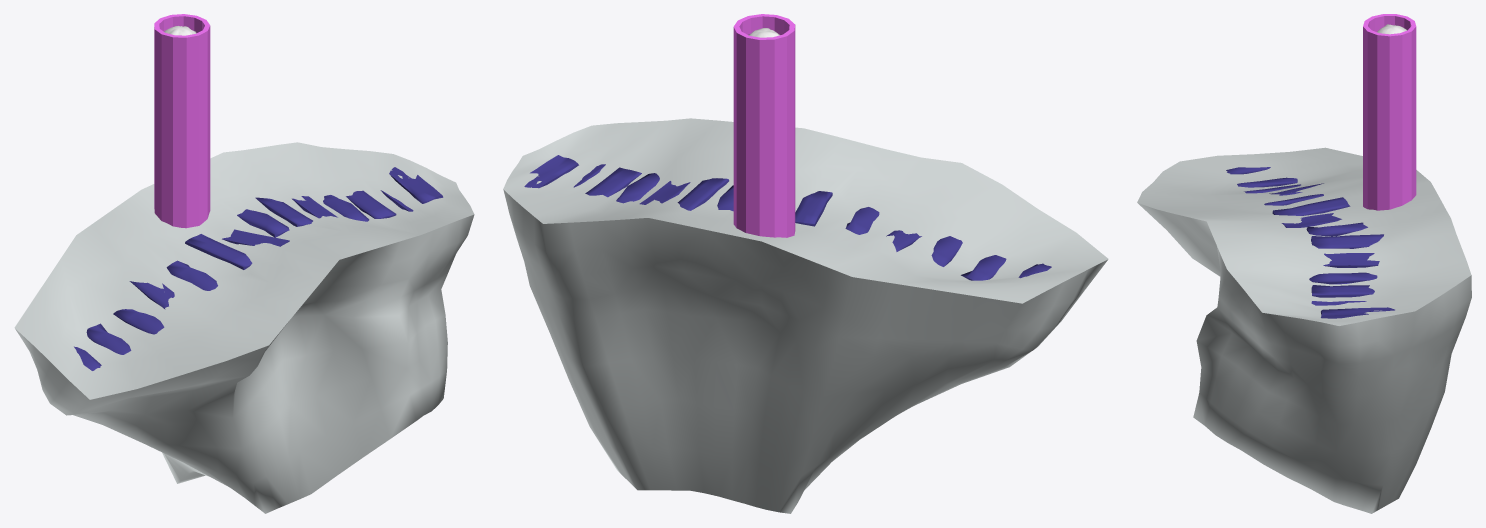
File: ile3.fbx
The picture shows the model from 3 angles, left to right: view 1: azimuth 30°, elevation 25°; view 2: azimuth 150°, elevation 25°; view 3: azimuth 270°, elevation 25°; orthographic projection. The views are drawn at different scales.
Parts seen in each view (by area): view 1: Sphère, Cylindre, planche3_2, Cube_3, planche2_2, planche2_1, planche2_3, planche3, planche2_5, planche3_1, planche4, planche3_3 (+1 smaller); view 2: Sphère, Cylindre, Cube_3, planche3_2, planche3_1, planche3; view 3: Sphère, Cylindre, planche3_1, planche3_2, planche3, planche4_1, planche2, planche2_1, Cube_3, planche4, planche2_5.
Part boxes in pixels (box(x1,y1,x2,y2)): Sphère: box(14, 142, 474, 513); Cylindre: box(154, 14, 210, 228); planche3_2: box(185, 234, 252, 269); Cube_3: box(389, 167, 443, 203); planche2_2: box(166, 260, 217, 290); planche2_1: box(237, 209, 289, 237); planche2_3: box(113, 309, 164, 334); planche3: box(346, 190, 396, 218); planche2_5: box(86, 323, 131, 354); planche3_1: box(255, 197, 312, 226); planche4: box(222, 229, 289, 246); planche3_3: box(129, 281, 174, 309); Sphère: box(503, 118, 1108, 513); Cylindre: box(733, 14, 795, 237); Cube_3: box(524, 155, 578, 188); planche3_2: box(795, 191, 832, 226); planche3_1: box(677, 178, 729, 210); planche3: box(585, 167, 641, 197); Sphère: box(1137, 147, 1471, 513); Cylindre: box(1363, 14, 1416, 210); planche3_1: box(1311, 234, 1383, 248); planche3_2: box(1272, 197, 1350, 215); planche3: box(1311, 285, 1374, 297); planche4_1: box(1323, 253, 1379, 267); planche2: box(1309, 272, 1377, 284); planche2_1: box(1306, 222, 1367, 236); Cube_3: box(1321, 307, 1394, 318); planche4: box(1281, 213, 1341, 227); planche2_5: box(1237, 177, 1297, 187).
Bounding box in the file's own units: 706 × 667 × 478.
